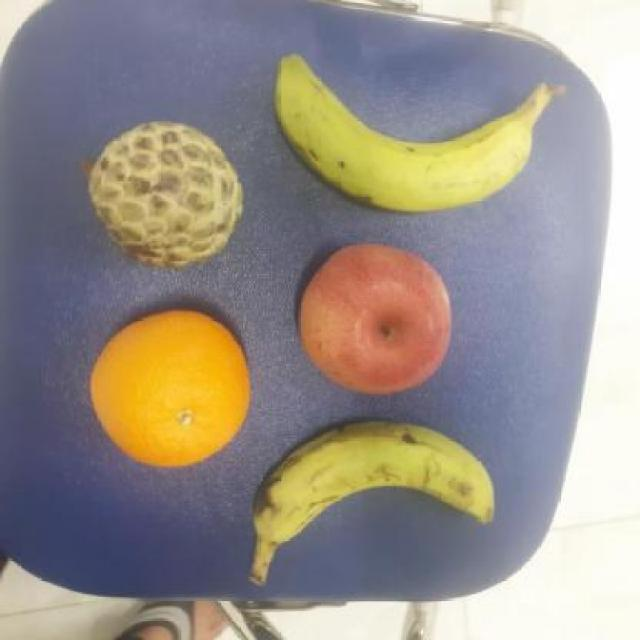apple: (298, 238, 458, 398)
banana: (272, 54, 548, 217), (248, 414, 500, 558)
oren: (85, 308, 257, 470)
sugar apple: (85, 118, 248, 268)
